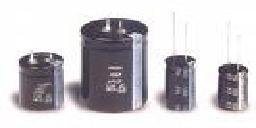Electrolytic-Capacitor: (80, 7, 152, 111), (214, 18, 251, 117), (164, 11, 198, 113), (17, 45, 65, 113)
